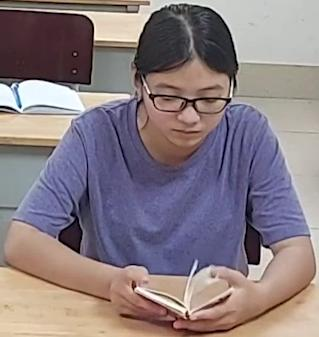Reading: (15, 2, 306, 323)
